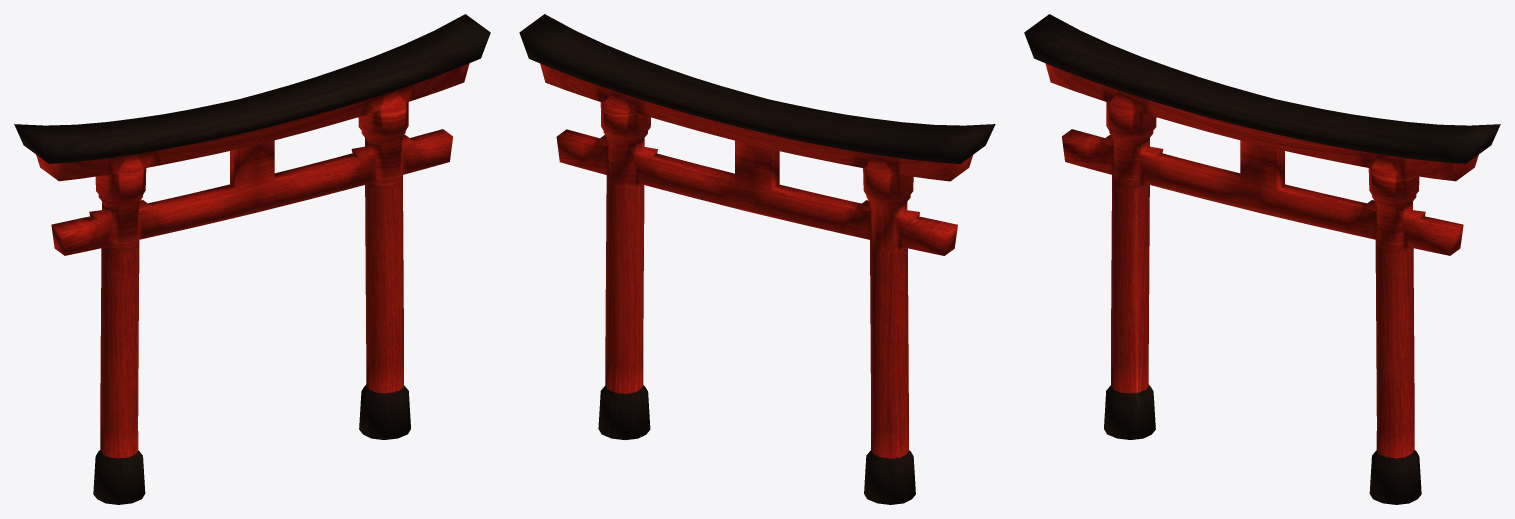
The picture shows the model from 3 angles, left to right: view 1: azimuth 30°, elevation 25°; view 2: azimuth 150°, elevation 25°; view 3: azimuth 330°, elevation 25°; orthographic projection.
Parts seen in each view (by area): view 1: tori_0; view 2: tori_0; view 3: tori_0.
Part boxes in pixels (x1,y1,x2,y2): tori_0: (14, 14, 490, 504); tori_0: (519, 14, 995, 504); tori_0: (1024, 14, 1500, 504).
Bounding box in the file's own units: 5.13 × 4.16 × 0.506.
Materials: 1 (1 with a texture image).
